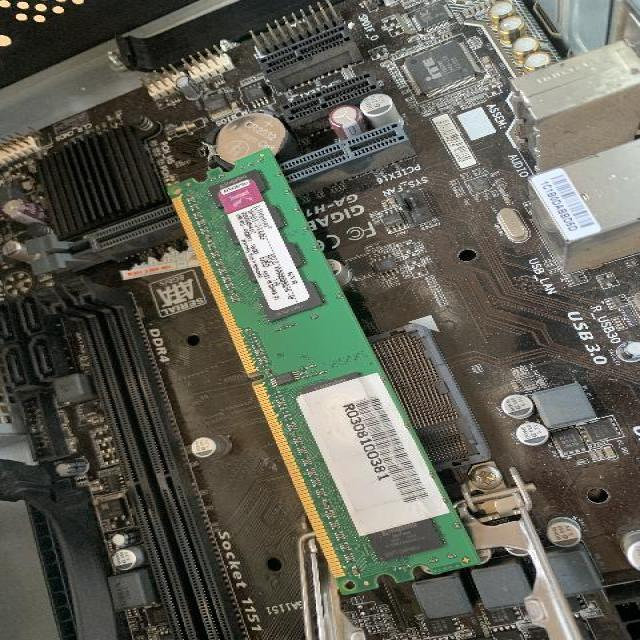Mainboard: (0, 0, 640, 640)
RAM: (163, 148, 481, 594)
